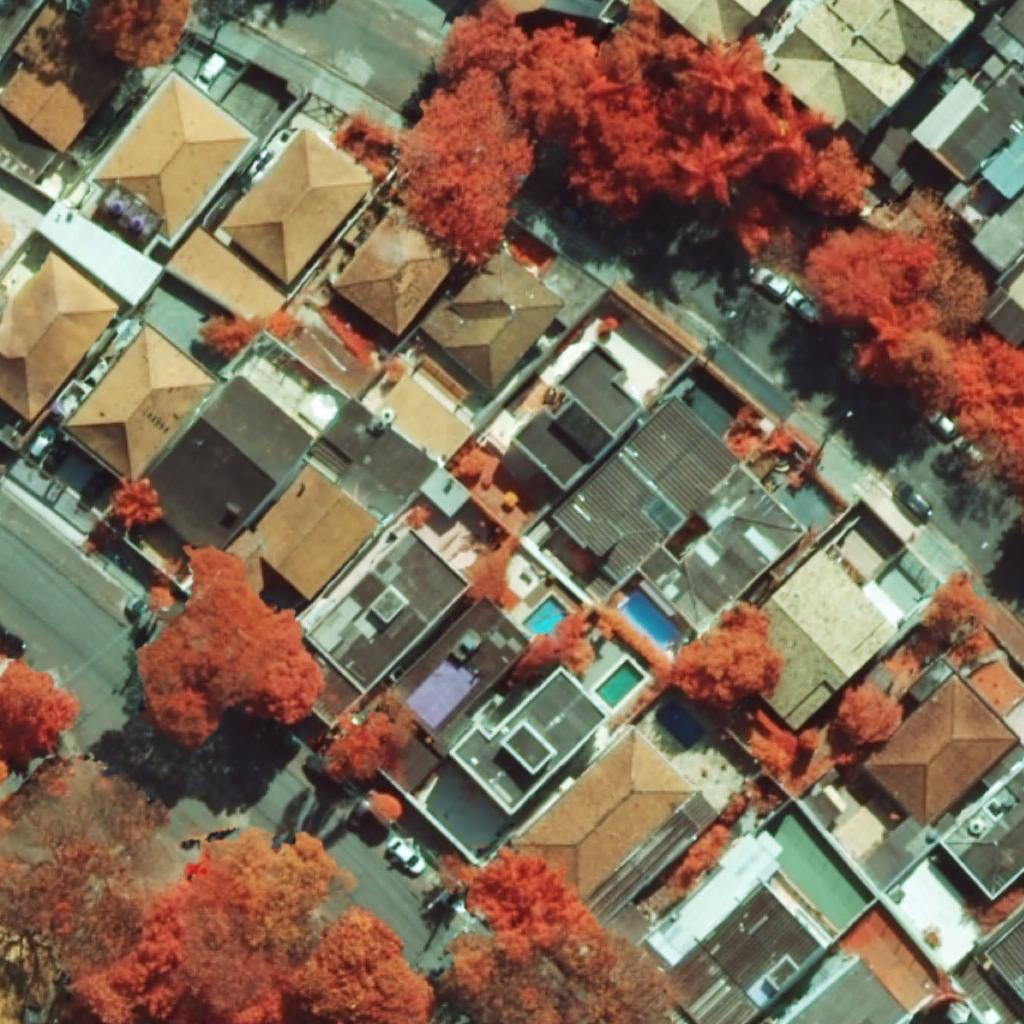pool: (620, 593, 675, 648), (596, 660, 645, 708), (523, 597, 566, 637)
